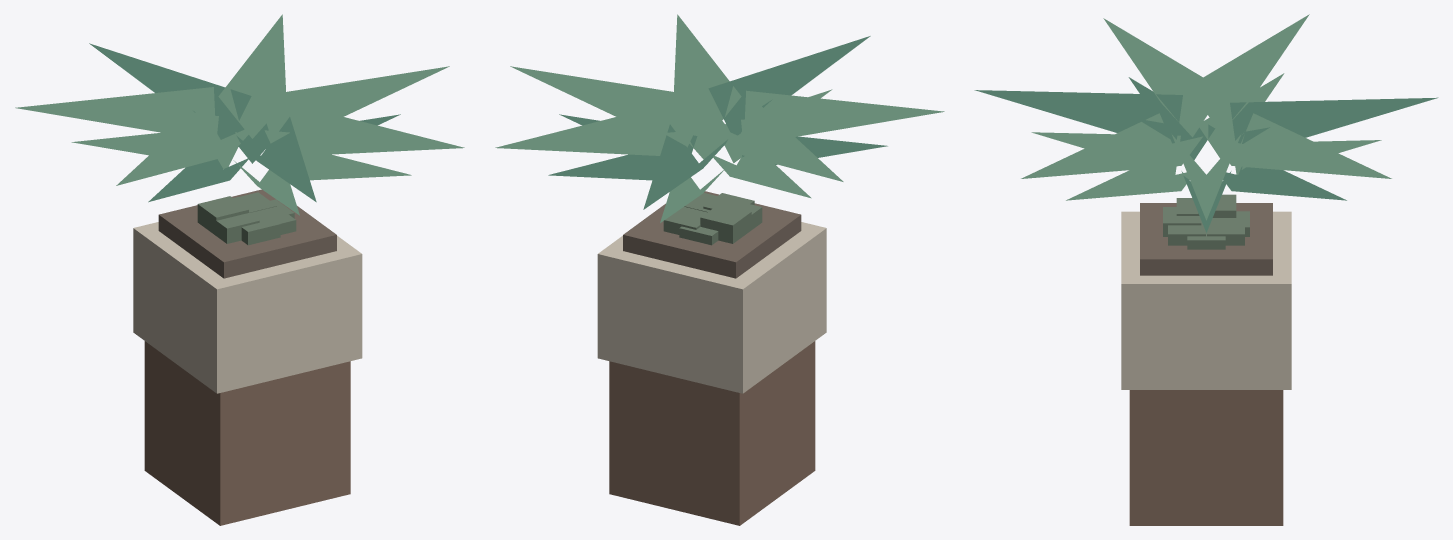
3 renders of one model, left to right at view 1: azimuth 30°, elevation 25°; view 2: azimuth 150°, elevation 25°; view 3: azimuth 270°, elevation 25°, orthographic.
Parts seen in each view (by area): view 1: RG-GAME-02-INDOOR-GREENERY-V16__STANDALONE_PL07__ASSET_1F_le (×2), RG-GAME-02-INDOOR-GREENERY-V16__STANDALONE_PL07__ASSET_1F_wo, RG-GAME-02-INDOOR-GREENERY-V16__STANDALONE_PL07__ASSET_1F_ri, RG-GAME-02-INDOOR-GREENERY-V16__STANDALONE_PL07__ASSET_1F_so, RG-GAME-02-INDOOR-GREENERY-V16__STANDALONE_PL07__ASSET_1F_st; view 2: RG-GAME-02-INDOOR-GREENERY-V16__STANDALONE_PL07__ASSET_1F_le (×2), RG-GAME-02-INDOOR-GREENERY-V16__STANDALONE_PL07__ASSET_1F_wo, RG-GAME-02-INDOOR-GREENERY-V16__STANDALONE_PL07__ASSET_1F_ri, RG-GAME-02-INDOOR-GREENERY-V16__STANDALONE_PL07__ASSET_1F_so, RG-GAME-02-INDOOR-GREENERY-V16__STANDALONE_PL07__ASSET_1F_st; view 3: RG-GAME-02-INDOOR-GREENERY-V16__STANDALONE_PL07__ASSET_1F_le (×2), RG-GAME-02-INDOOR-GREENERY-V16__STANDALONE_PL07__ASSET_1F_ri, RG-GAME-02-INDOOR-GREENERY-V16__STANDALONE_PL07__ASSET_1F_wo, RG-GAME-02-INDOOR-GREENERY-V16__STANDALONE_PL07__ASSET_1F_so, RG-GAME-02-INDOOR-GREENERY-V16__STANDALONE_PL07__ASSET_1F_st.
Part boxes in pixels (x1,y1,x2,y2): RG-GAME-02-INDOOR-GREENERY-V16__STANDALONE_PL07__ASSET_1F_le (×2): (15,14,464,215); RG-GAME-02-INDOOR-GREENERY-V16__STANDALONE_PL07__ASSET_1F_wo: (144,341,350,525); RG-GAME-02-INDOOR-GREENERY-V16__STANDALONE_PL07__ASSET_1F_ri: (133,222,362,393); RG-GAME-02-INDOOR-GREENERY-V16__STANDALONE_PL07__ASSET_1F_so: (158,189,336,278); RG-GAME-02-INDOOR-GREENERY-V16__STANDALONE_PL07__ASSET_1F_st: (197,192,296,245); RG-GAME-02-INDOOR-GREENERY-V16__STANDALONE_PL07__ASSET_1F_le (×2): (495,14,944,222); RG-GAME-02-INDOOR-GREENERY-V16__STANDALONE_PL07__ASSET_1F_wo: (609,341,815,525); RG-GAME-02-INDOOR-GREENERY-V16__STANDALONE_PL07__ASSET_1F_ri: (597,222,826,393); RG-GAME-02-INDOOR-GREENERY-V16__STANDALONE_PL07__ASSET_1F_so: (623,191,801,278); RG-GAME-02-INDOOR-GREENERY-V16__STANDALONE_PL07__ASSET_1F_st: (663,193,762,245); RG-GAME-02-INDOOR-GREENERY-V16__STANDALONE_PL07__ASSET_1F_le (×2): (974,14,1438,232); RG-GAME-02-INDOOR-GREENERY-V16__STANDALONE_PL07__ASSET_1F_ri: (1121,211,1291,389); RG-GAME-02-INDOOR-GREENERY-V16__STANDALONE_PL07__ASSET_1F_wo: (1129,390,1283,525); RG-GAME-02-INDOOR-GREENERY-V16__STANDALONE_PL07__ASSET_1F_so: (1140,203,1272,275); RG-GAME-02-INDOOR-GREENERY-V16__STANDALONE_PL07__ASSET_1F_st: (1163,194,1249,249).
Bounding box in the file's own units: 0.3091 × 0.2926 × 0.3171.
